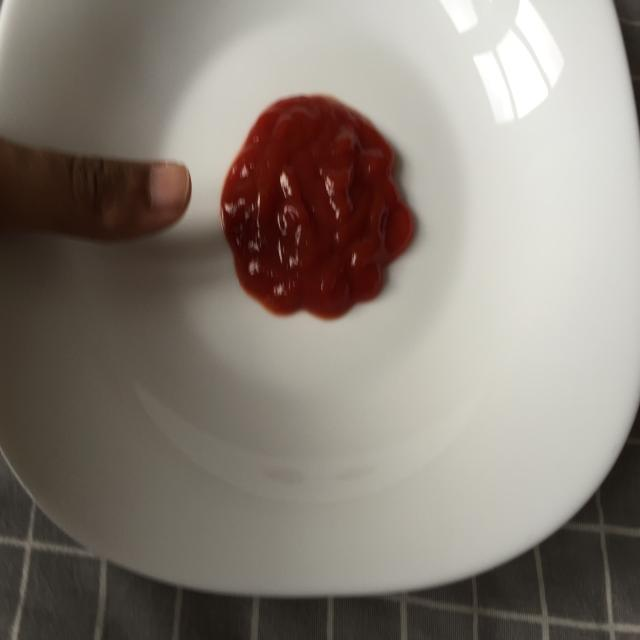egg: (1, 1, 638, 598)
sauce: (219, 91, 416, 321)
